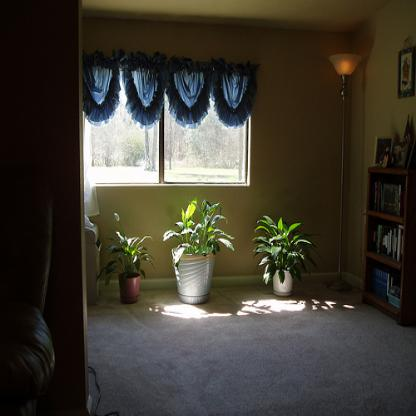pottedplant: (162, 196, 236, 304), (253, 214, 319, 295), (96, 213, 155, 302)
